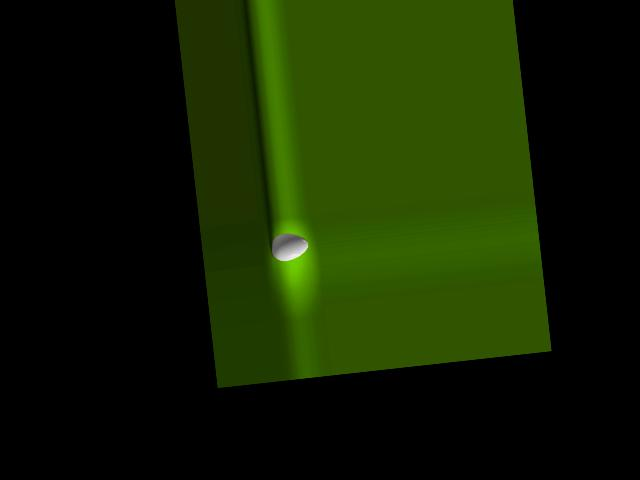egg: (269, 231, 310, 262)
